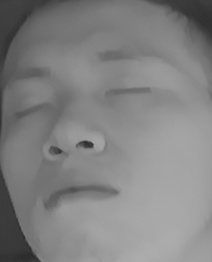blink: (102, 80, 158, 106), (10, 93, 51, 126)
mouth: (41, 167, 121, 218)
